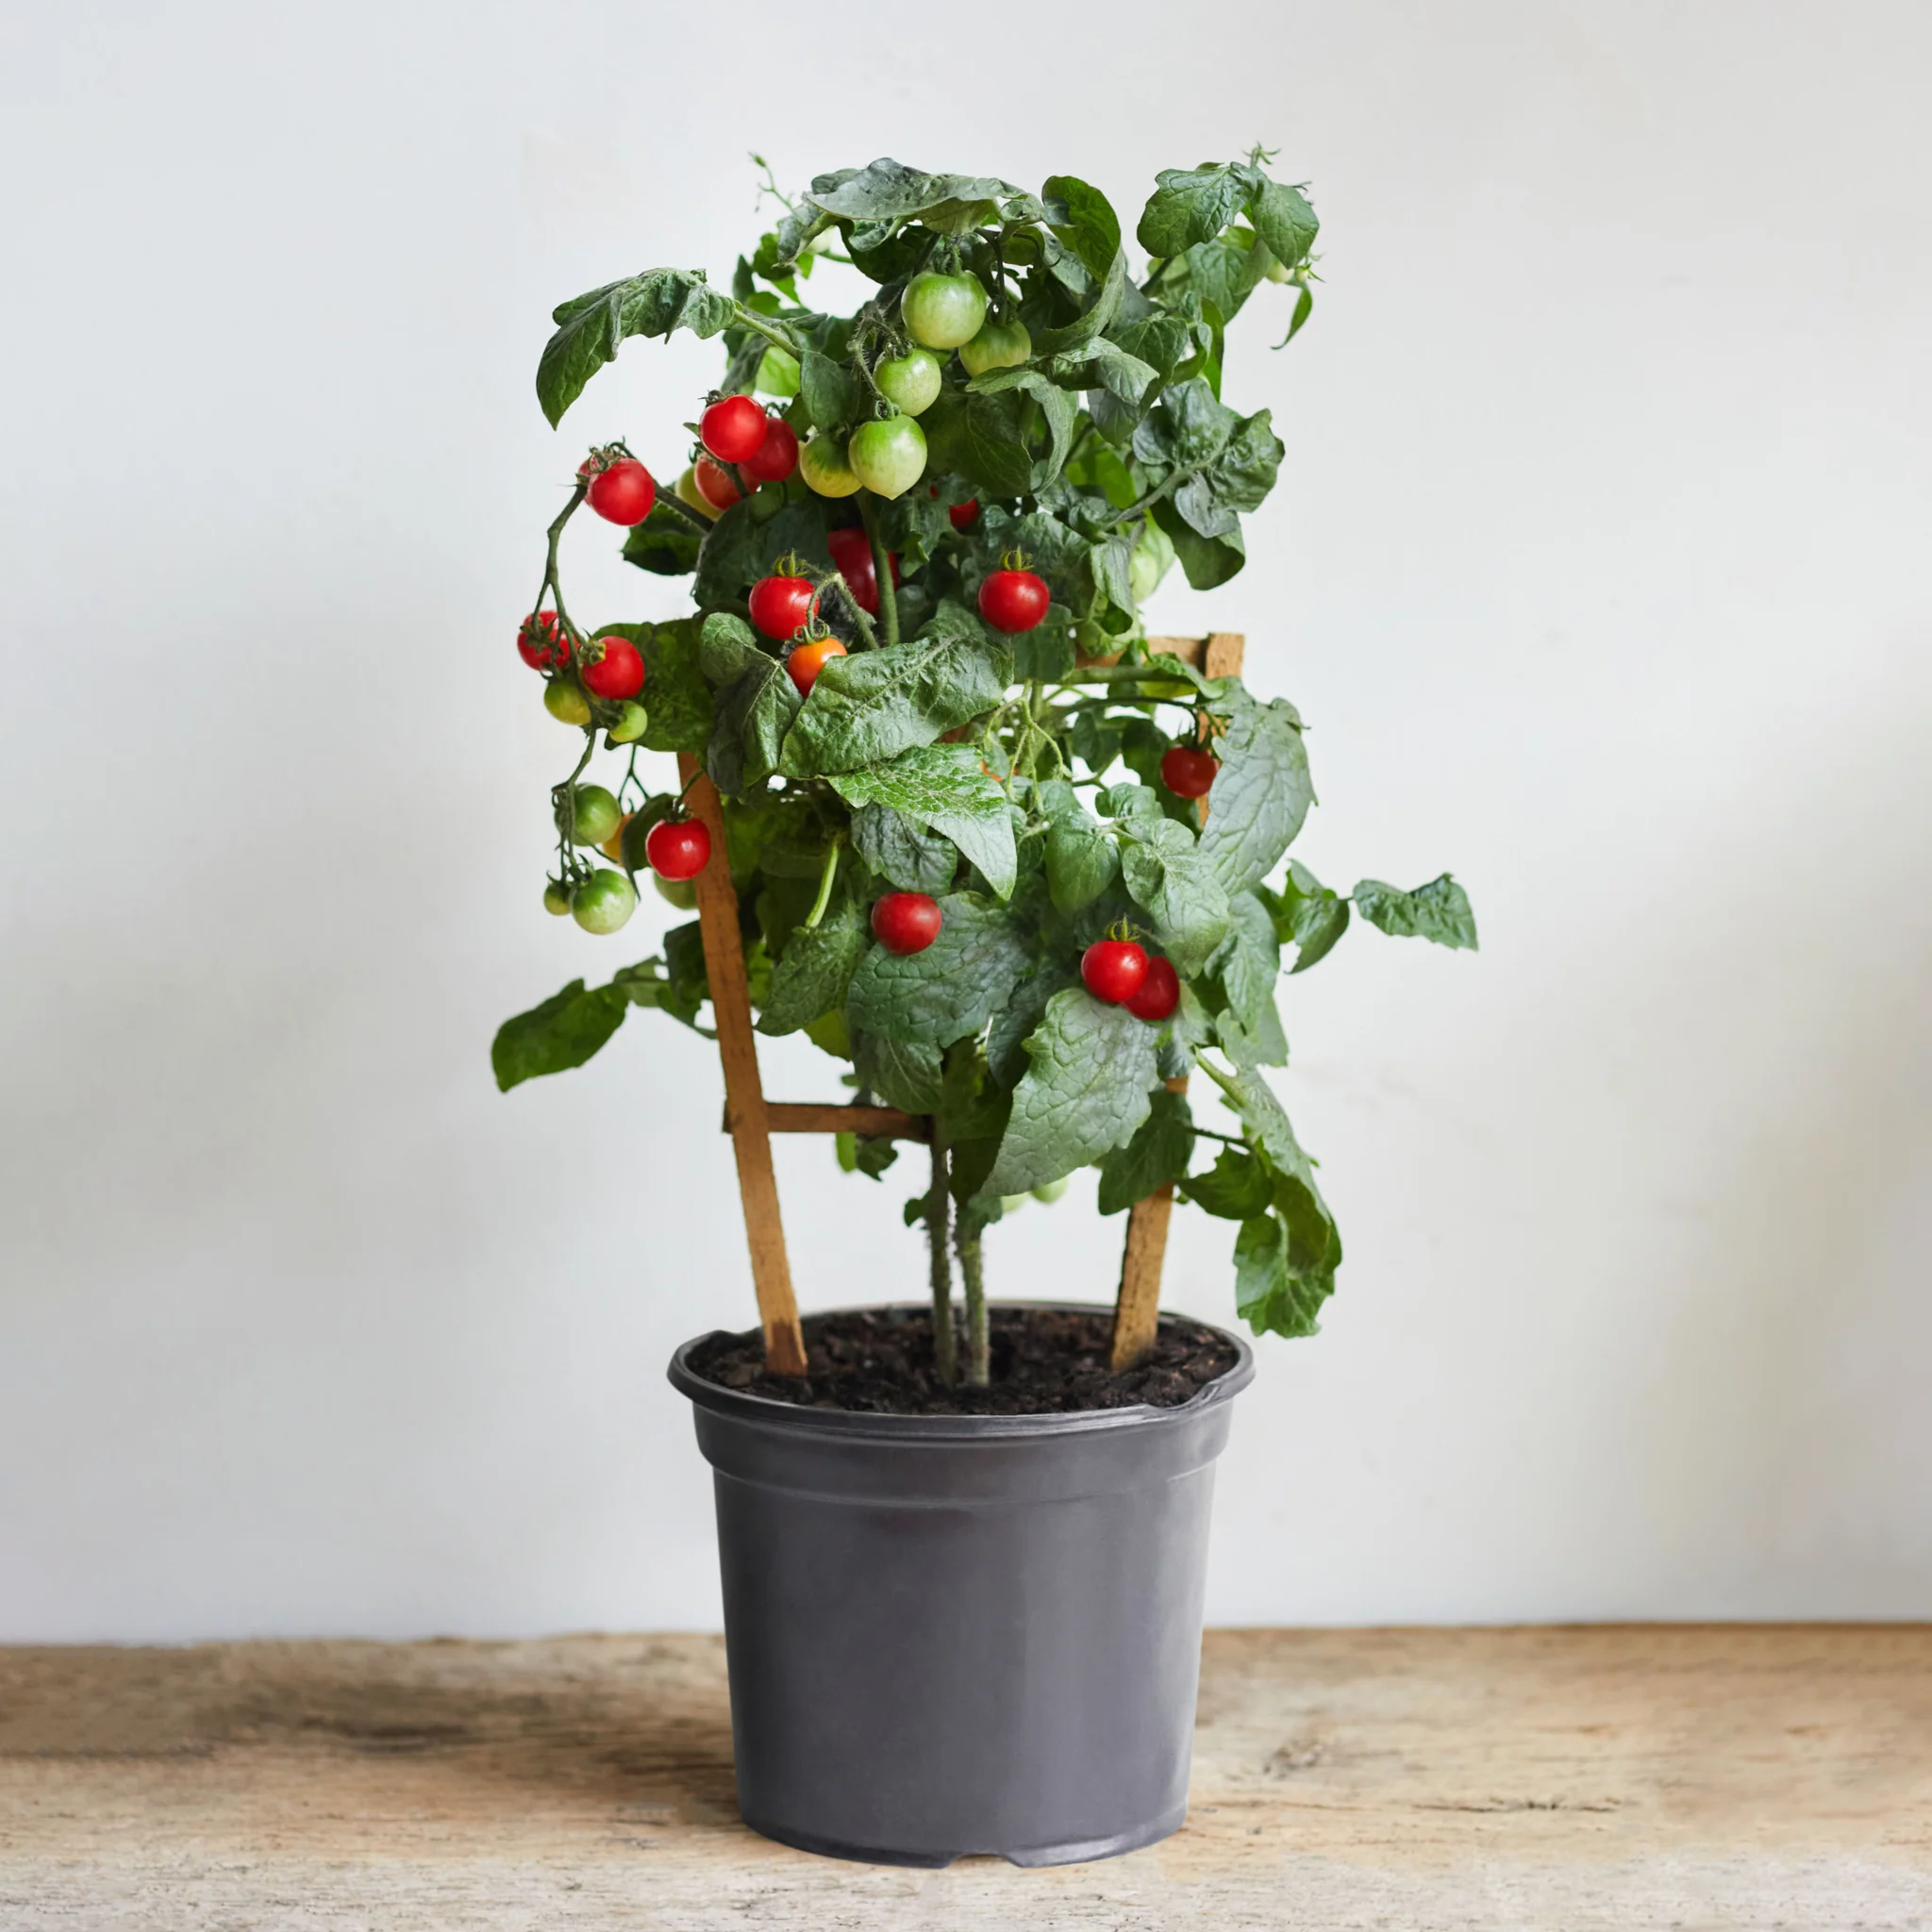tomato: (577, 446, 918, 725)
